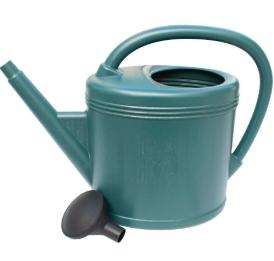ARROSOIR: (0, 11, 274, 242)
